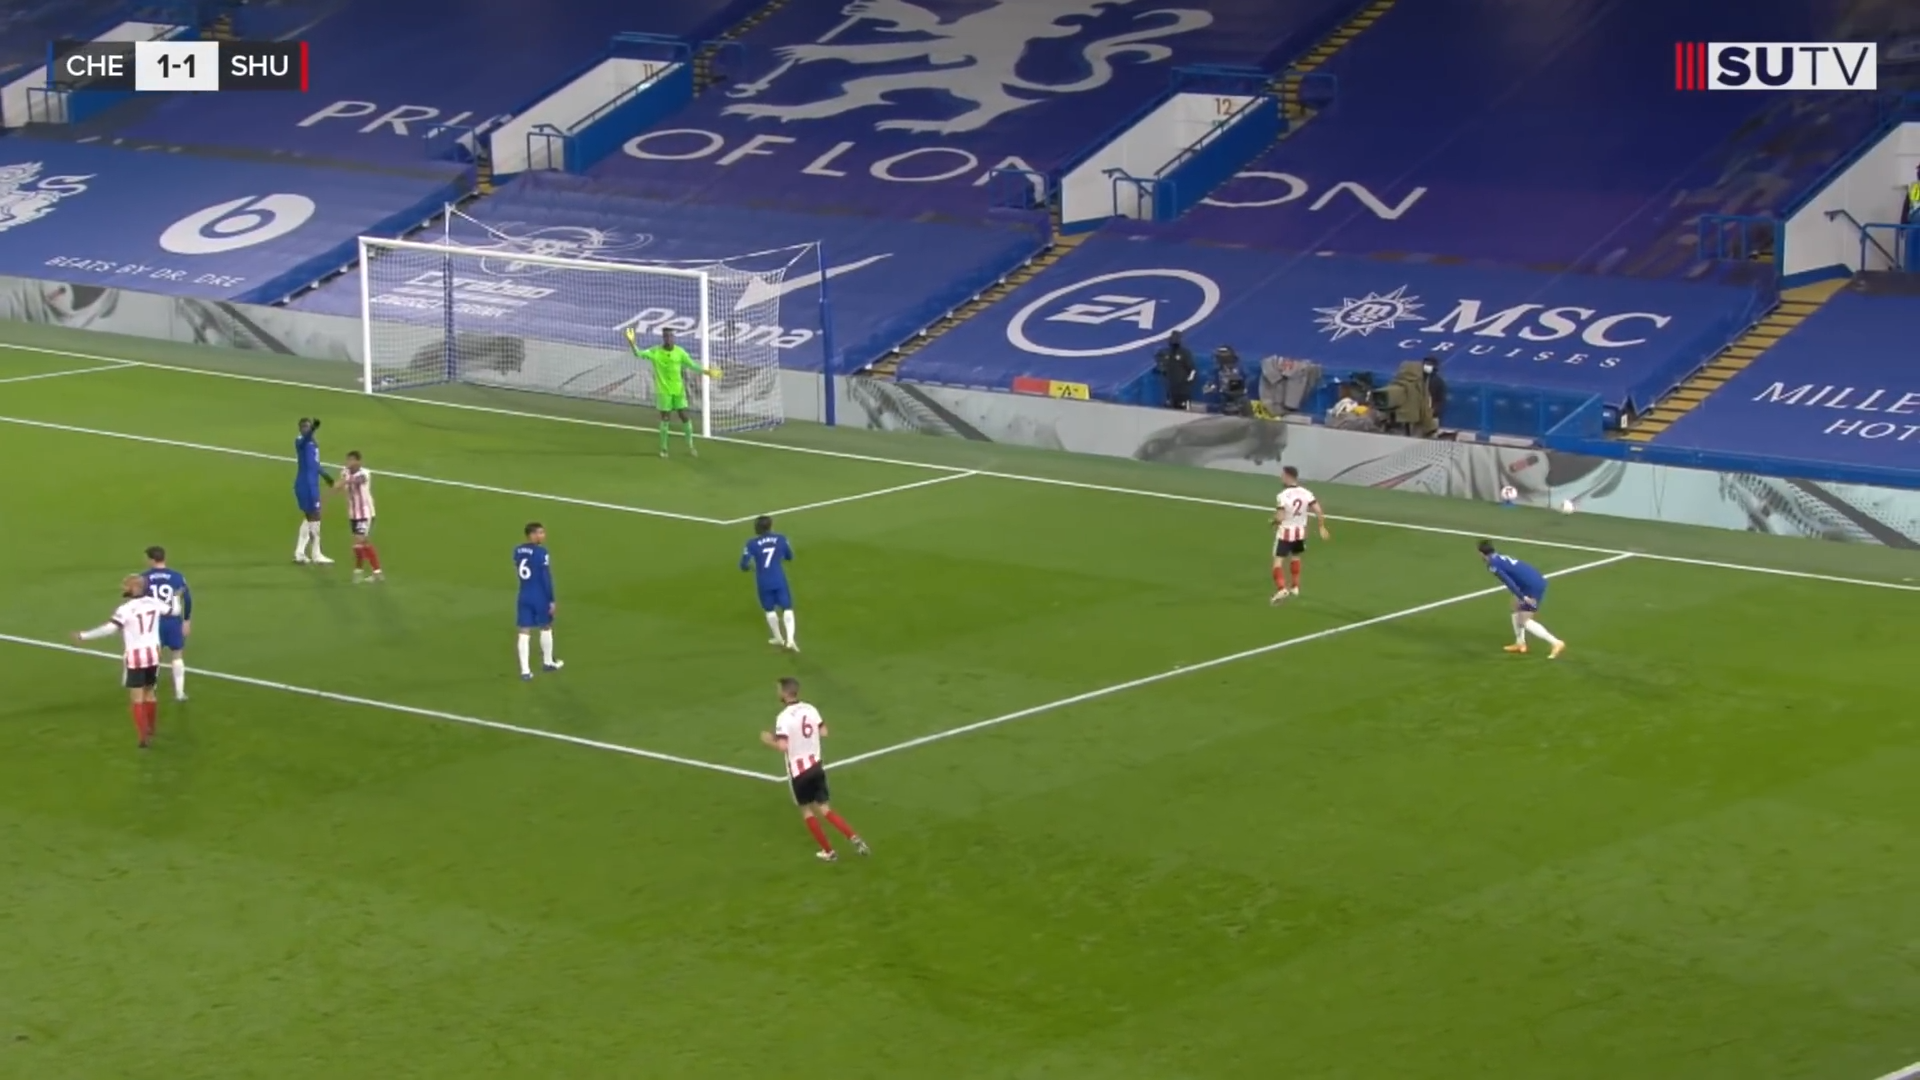Player: (747, 668, 889, 871), (619, 316, 715, 470), (1254, 452, 1336, 618), (505, 505, 573, 685)
